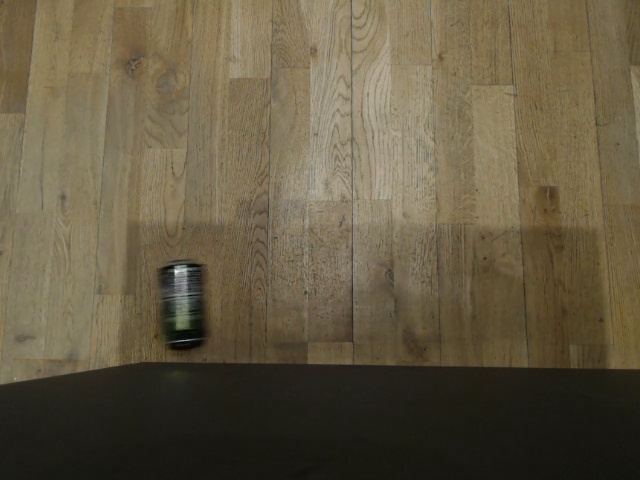beer: (318, 15, 371, 101), (448, 326, 545, 367), (142, 318, 228, 363)
